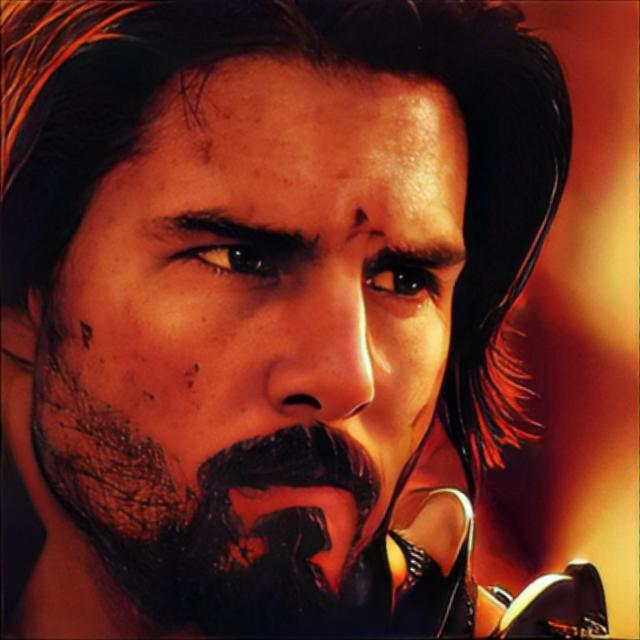anger: (58, 48, 465, 592)
